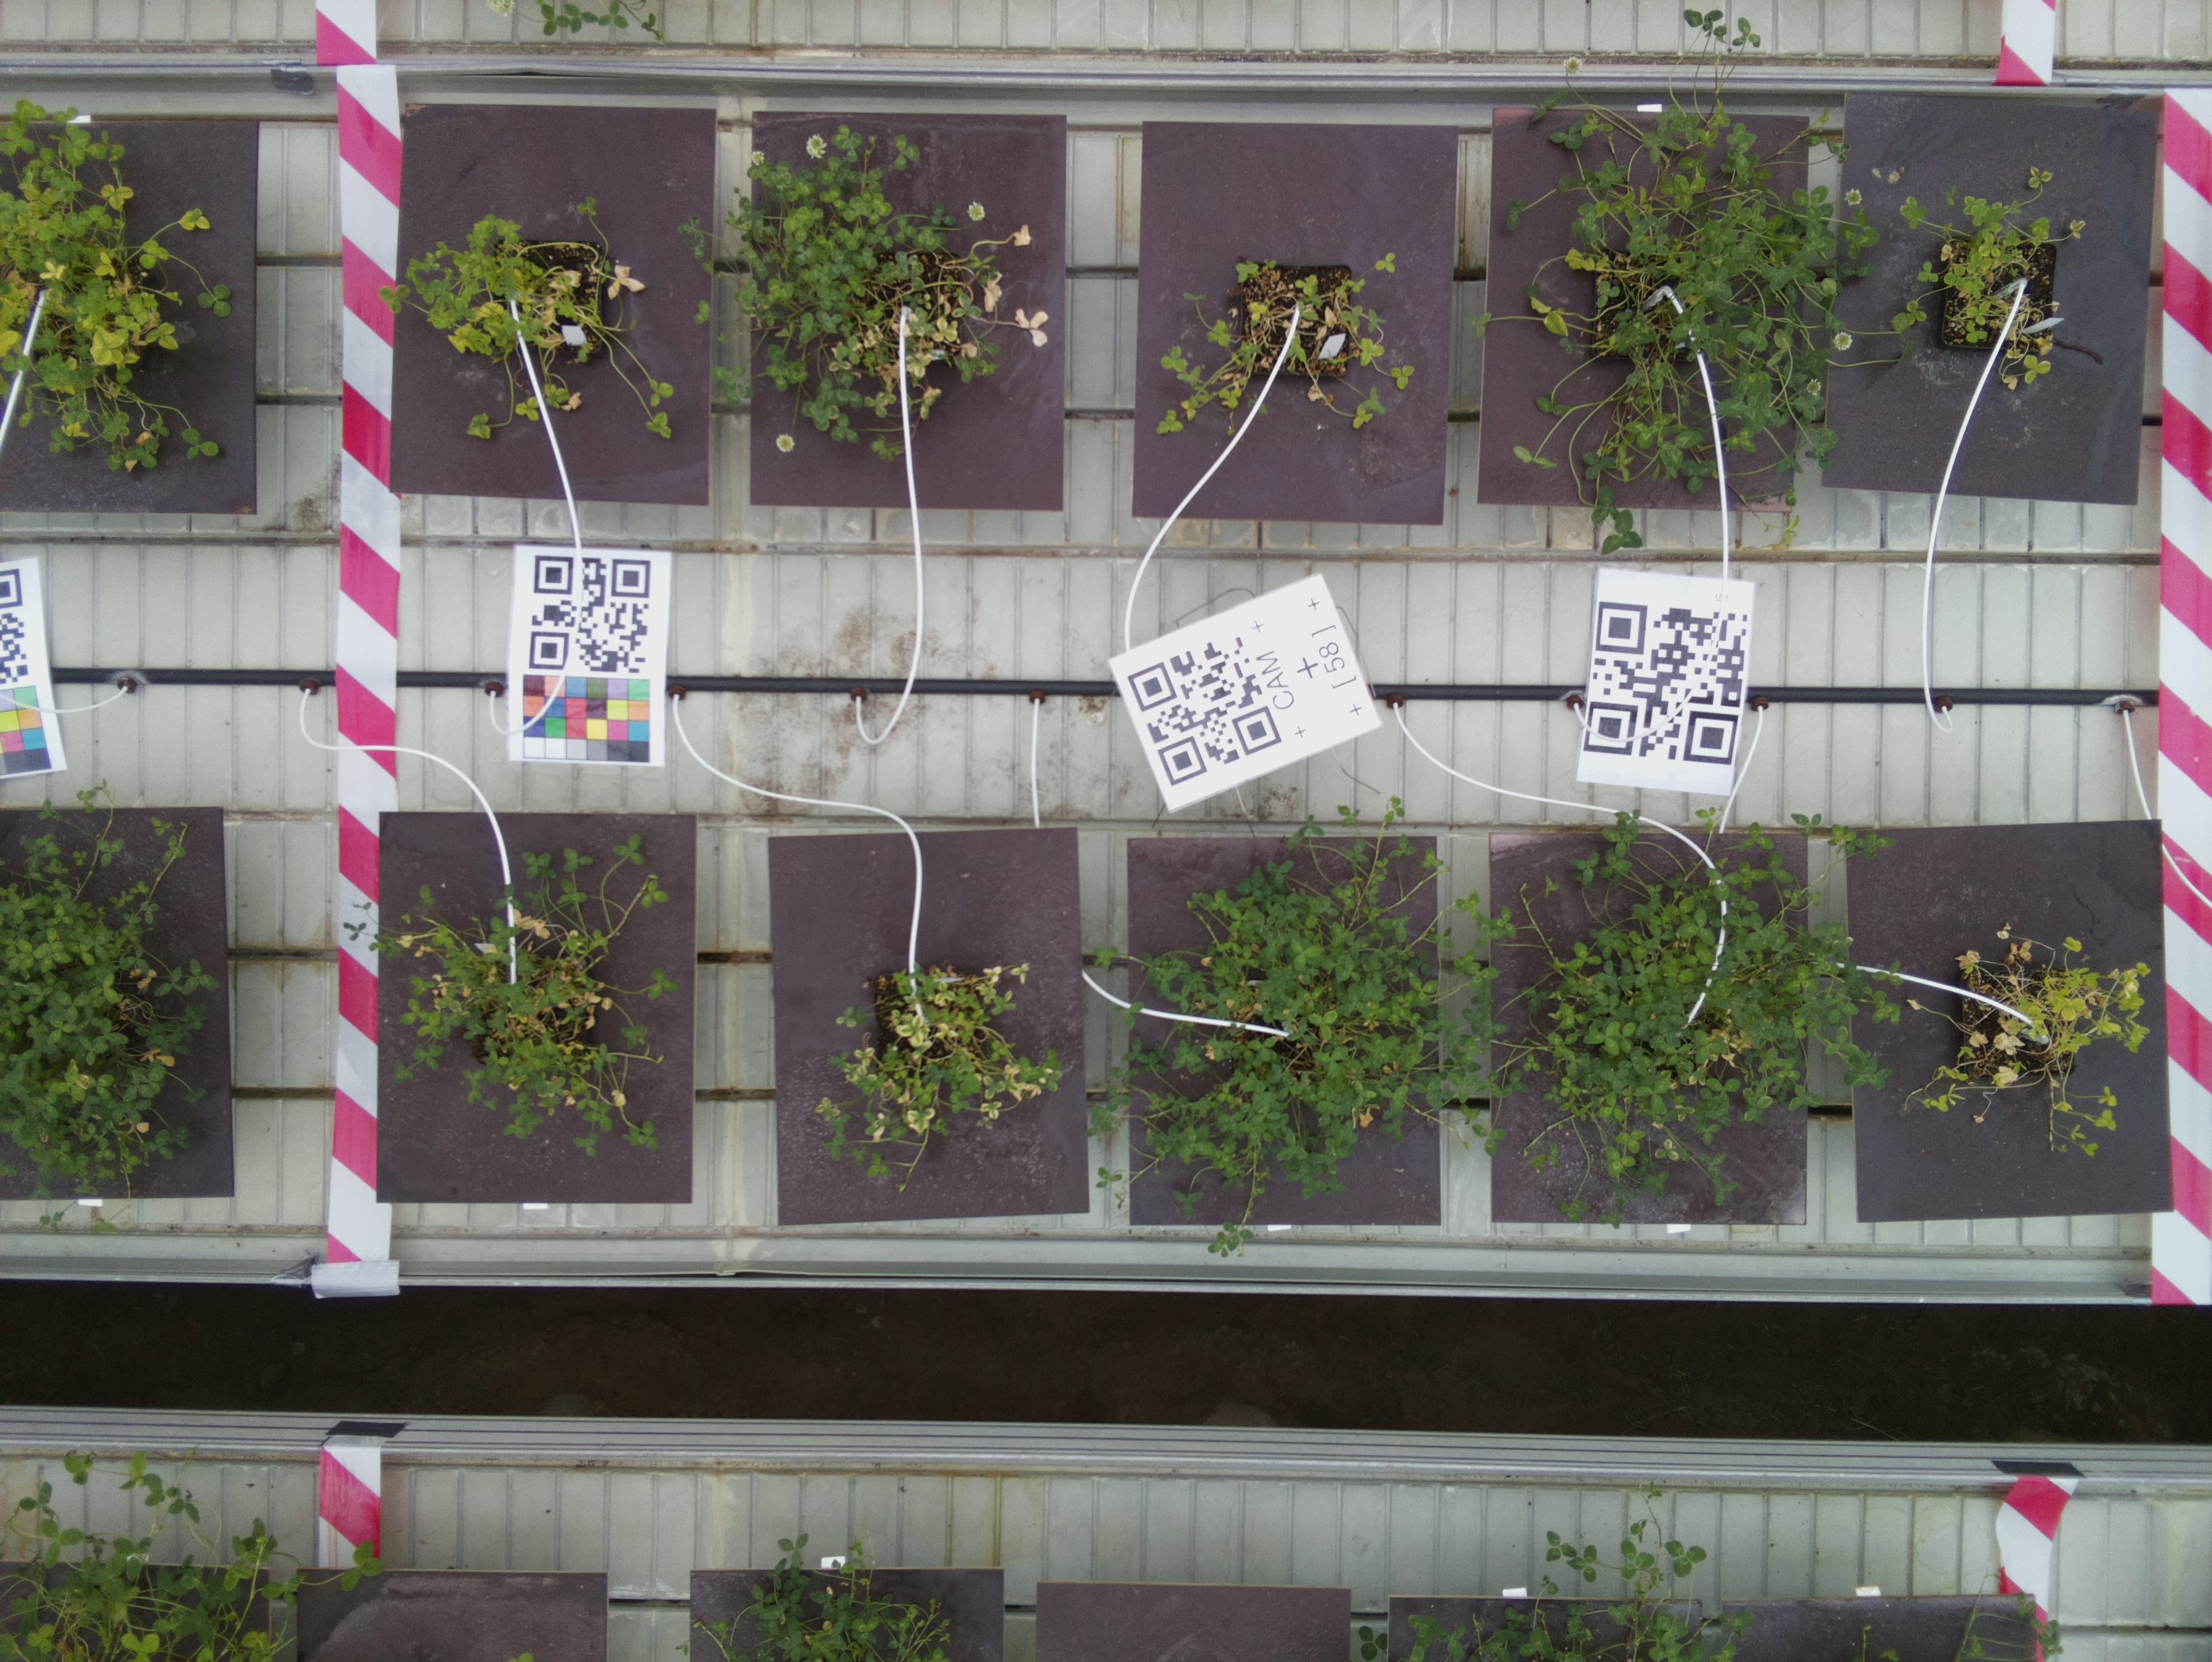POT: (1480, 828, 1805, 1231), (1845, 826, 2175, 1222), (1840, 94, 2153, 508), (389, 108, 723, 491), (1489, 106, 1803, 512), (766, 831, 1093, 1220), (1126, 836, 1444, 1231), (377, 814, 697, 1201), (754, 112, 1063, 512), (1142, 122, 1446, 520)
QRCODE: (1107, 573, 1383, 814)
QRCOLOR: (510, 546, 670, 766)
